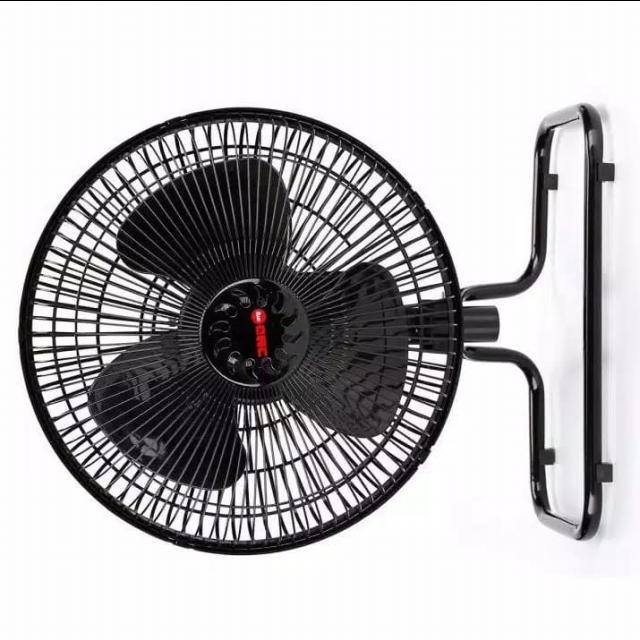fan: (19, 110, 612, 560)
